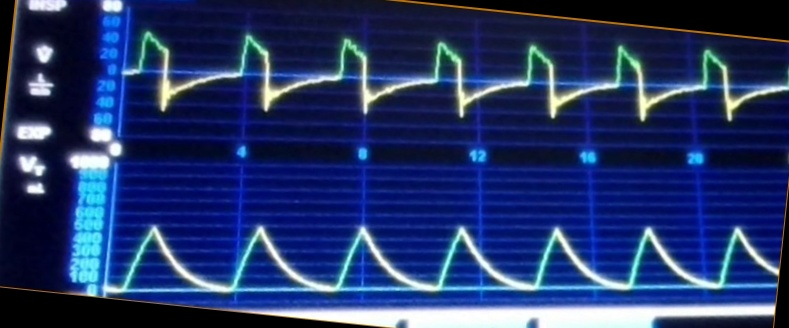Accumulation Flow: (127, 30, 757, 142)
Volume: (113, 203, 774, 301)
